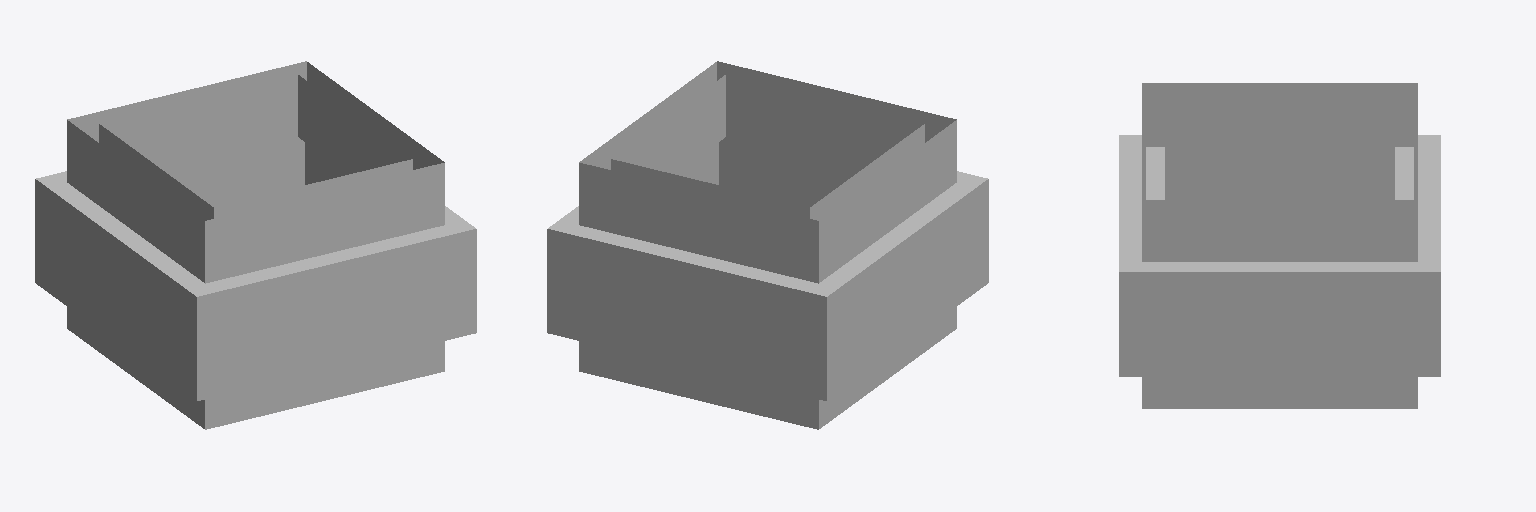
Rendered from egg_hatched_inner1.obj.
The picture shows the model from 3 angles: view 1: azimuth 30°, elevation 25°; view 2: azimuth 150°, elevation 25°; view 3: azimuth 270°, elevation 25°; orthographic projection.
Visible parts, largest first — view 1: dragon_egg_hatched_egg_test2.002, egg_hatched_inner; view 2: dragon_egg_hatched_egg_test2.002, egg_hatched_inner; view 3: dragon_egg_hatched_egg_test2.002, egg_hatched_inner.
Boxes of the visible parts, x1=… form: dragon_egg_hatched_egg_test2.002: x1=35, y1=61, x2=476, y2=429; egg_hatched_inner: x1=99, y1=75, x2=412, y2=220; dragon_egg_hatched_egg_test2.002: x1=547, y1=61, x2=988, y2=429; egg_hatched_inner: x1=611, y1=75, x2=924, y2=220; dragon_egg_hatched_egg_test2.002: x1=1119, y1=83, x2=1440, y2=408; egg_hatched_inner: x1=1146, y1=92, x2=1413, y2=199.
Bounding box in the file's own units: 0.875 × 0.6875 × 0.875.